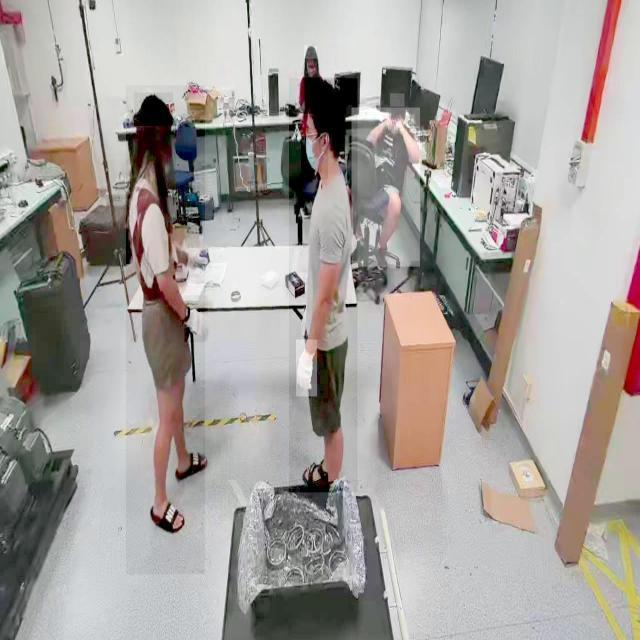gloves: (296, 340, 318, 398), (184, 295, 208, 342)
